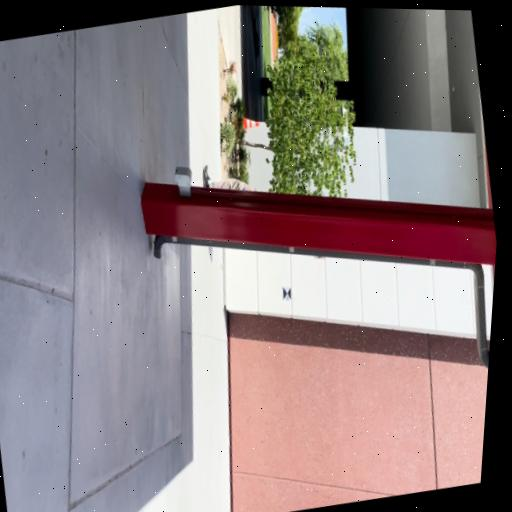target9: (282, 286, 291, 300)
